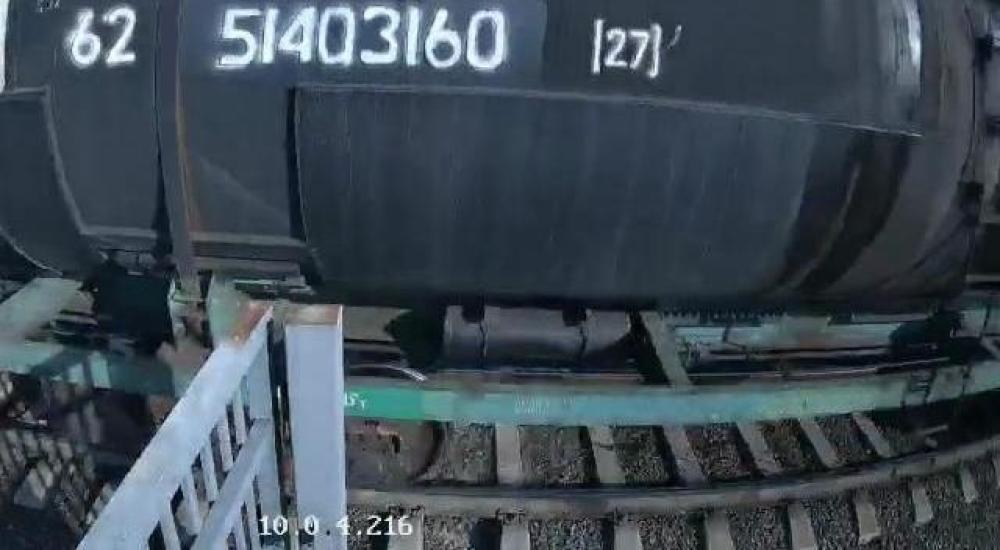Wagon-number: (213, 4, 514, 78)
